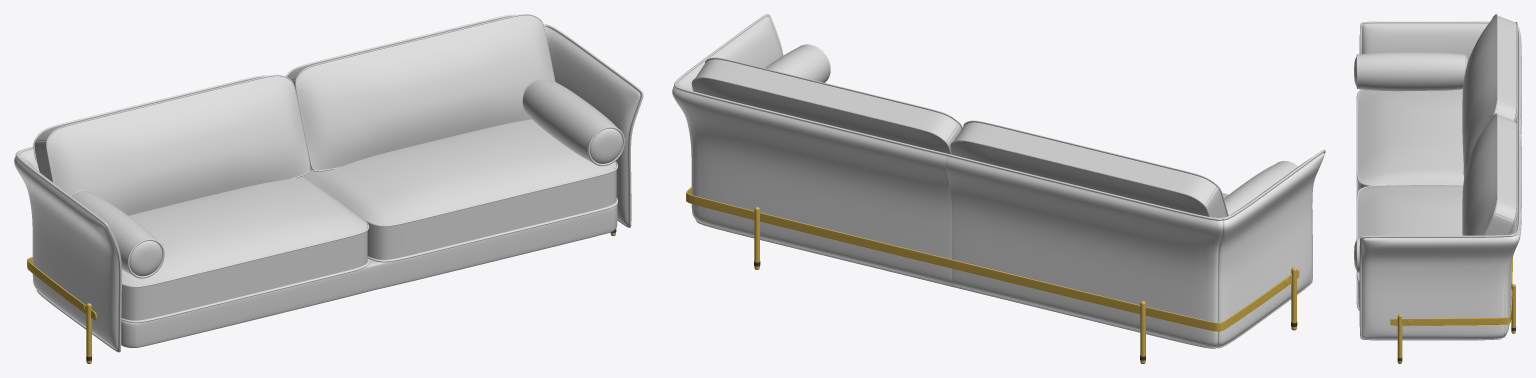
Rendered from SLN_Oasis_3_Seater.glb.
3 renders of one model, left to right at view 1: azimuth 30°, elevation 25°; view 2: azimuth 150°, elevation 25°; view 3: azimuth 270°, elevation 25°, orthographic. The views are drawn at different scales.
Visible parts, largest first — view 1: Oasis_3_Seater; view 2: Oasis_3_Seater; view 3: Oasis_3_Seater.
Boxes of the visible parts, <box> form: Oasis_3_Seater: <box>14,14,643,363</box>; Oasis_3_Seater: <box>672,14,1325,363</box>; Oasis_3_Seater: <box>1354,14,1521,363</box>.
Size of the model in its own units: 2.57 by 0.8401 by 0.8437.
